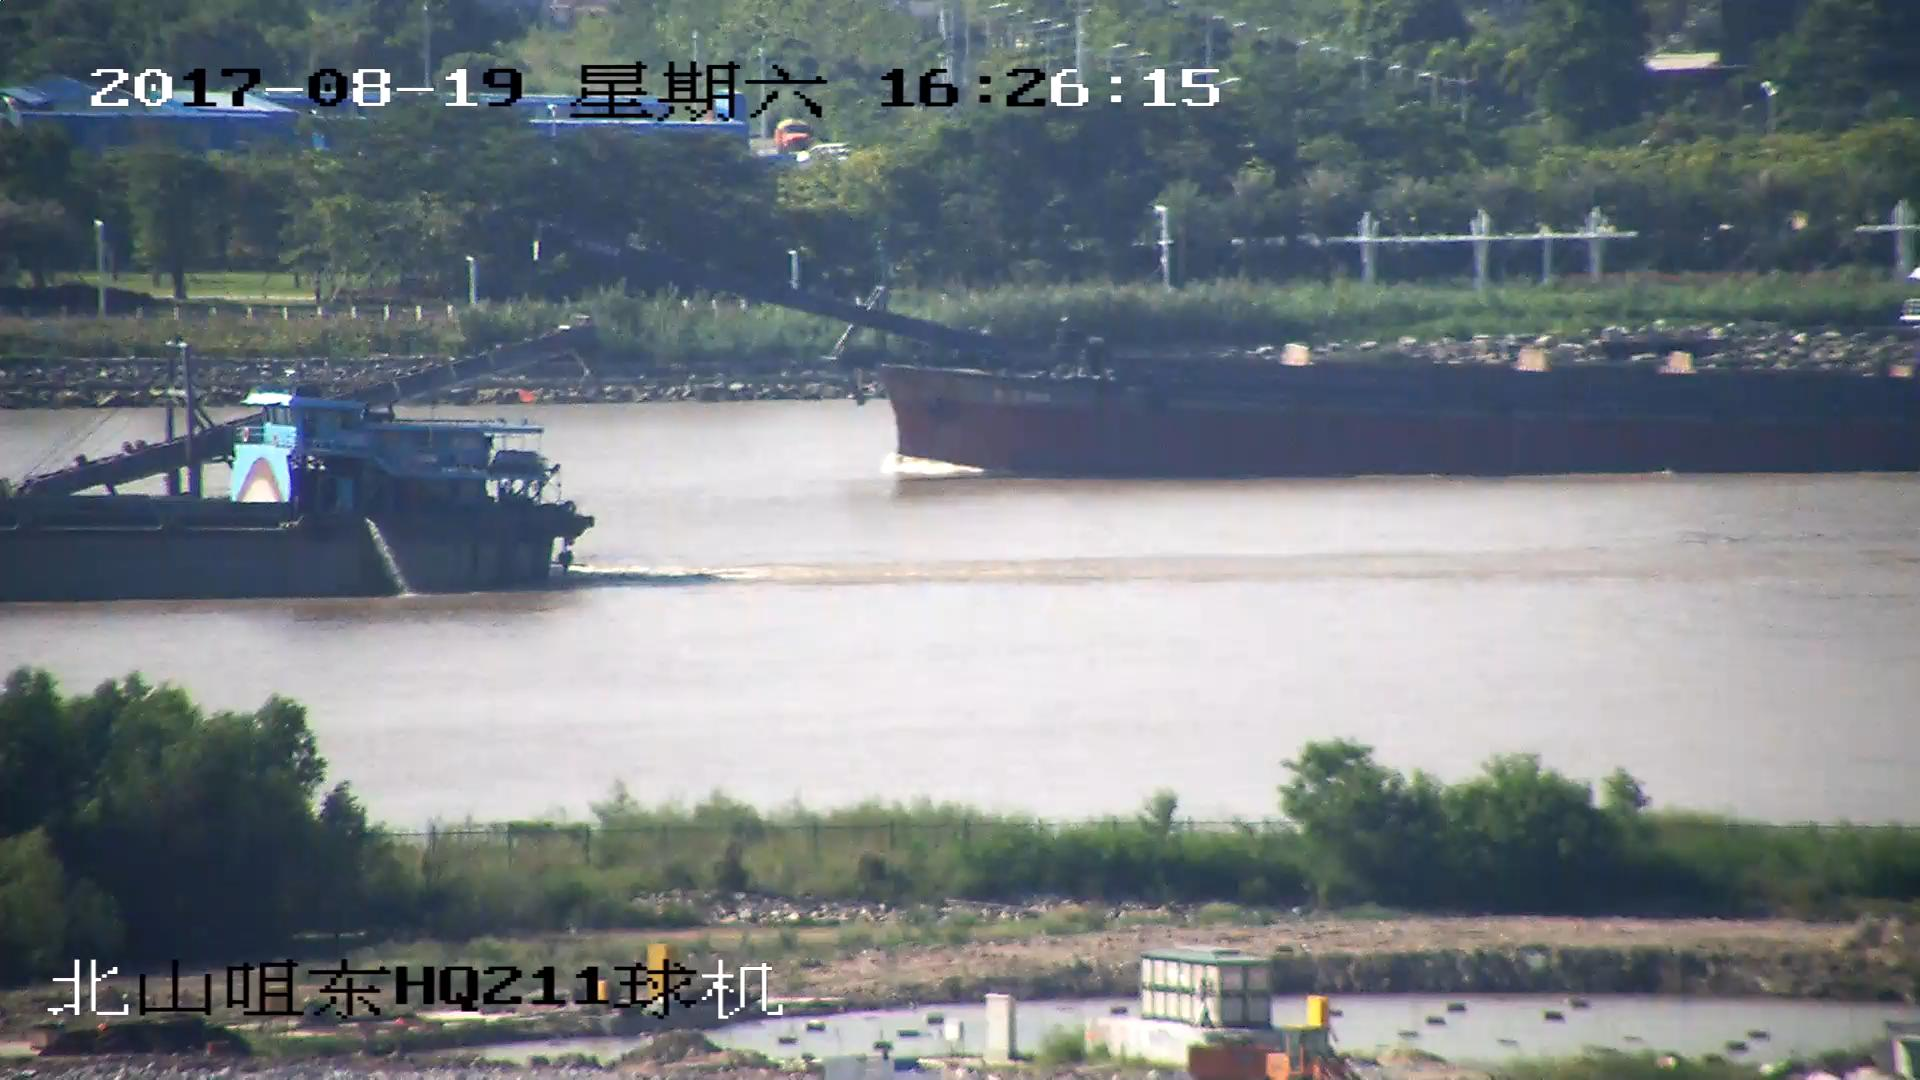bulk cargo carrier: (527, 228, 1919, 483), (1, 333, 585, 597)
